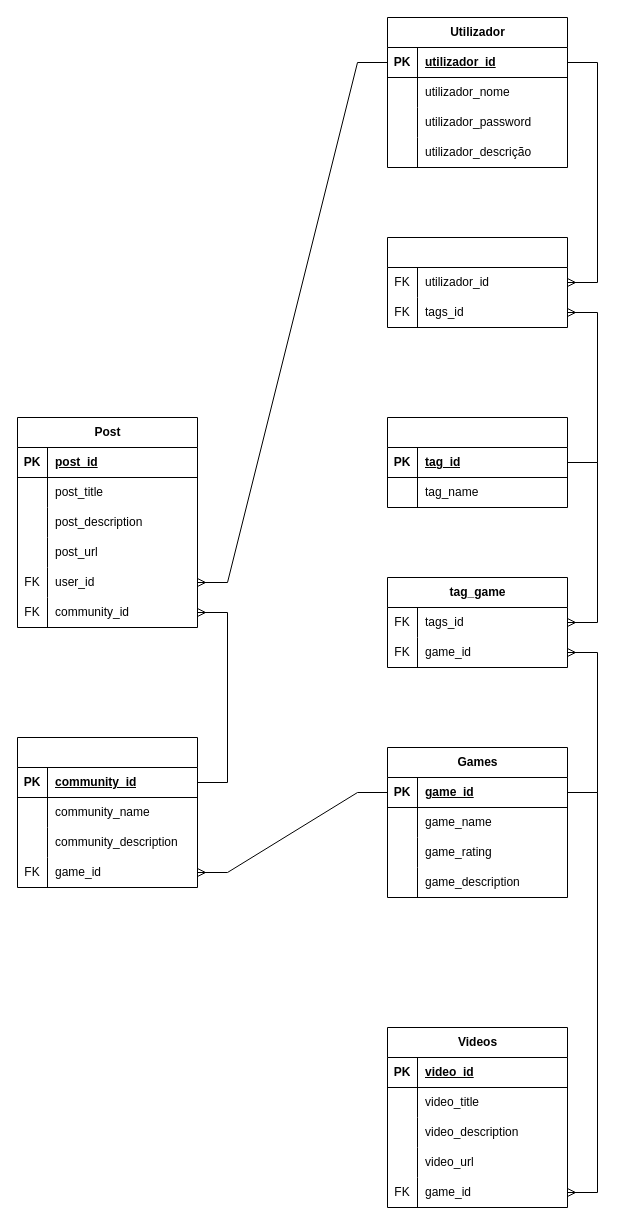
Some shapes in this 623 by 1225 pixel diagram are drawn without their labels. Here are the shapes that lost their labels. From the top down, the box of each, then its label:
(386, 236, 568, 328): Tag_utilizador
(386, 416, 568, 508): Tags
(16, 736, 198, 888): Communities
